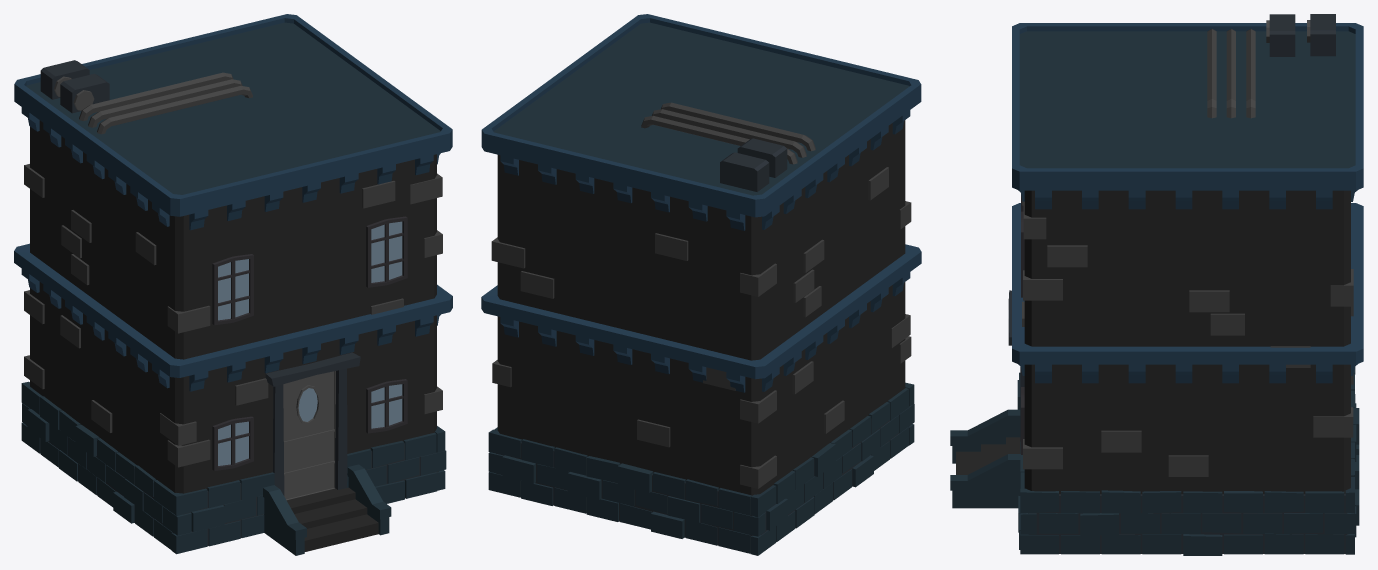
File: quat_2story_stairs.glb
3 renders of one model, left to right at view 1: azimuth 30°, elevation 25°; view 2: azimuth 150°, elevation 25°; view 3: azimuth 270°, elevation 25°, orthographic. The views are drawn at different scales.
Visible parts, largest first — view 1: 2Story_Stairs_Cube.076; view 2: 2Story_Stairs_Cube.076; view 3: 2Story_Stairs_Cube.076.
Part boxes in pixels (bbox=[...]): 2Story_Stairs_Cube.076: bbox=[14, 14, 452, 555]; 2Story_Stairs_Cube.076: bbox=[481, 14, 921, 555]; 2Story_Stairs_Cube.076: bbox=[950, 14, 1363, 555].
Bounding box in the file's own units: 2.16 × 2.75 × 2.53.
1 material, 1 textured.
